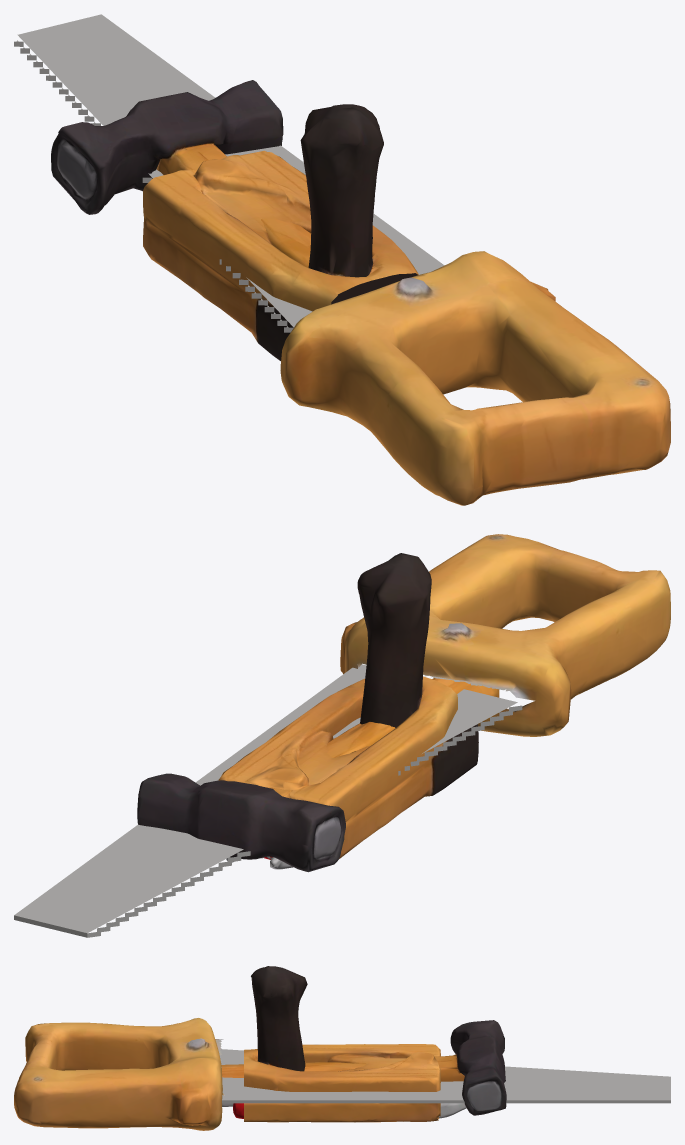
File: atelier.glb
3 views of the same model, one above another, from view 1: azimuth 30°, elevation 25°; view 2: azimuth 150°, elevation 25°; view 3: azimuth 270°, elevation 25° (orthographic). The views are drawn at different scales.
Visible parts, largest first — view 1: scie, rabot, marteau; view 2: scie, rabot, marteau; view 3: scie, rabot, marteau, cle-molette.
Part boxes in pixels (box(x1,y1,x2,y2)): scie: box(14, 14, 670, 505); rabot: box(143, 104, 418, 360); marteau: box(51, 80, 311, 267); scie: box(14, 534, 670, 937); rabot: box(218, 553, 478, 858); marteau: box(137, 678, 499, 872); scie: box(14, 1018, 670, 1130); rabot: box(244, 966, 440, 1122); marteau: box(221, 1020, 506, 1115); cle-molette: box(222, 1103, 466, 1118).
Size of the model in its own units: 0.1595 by 0.1436 by 0.6.
1 material, 1 textured.
